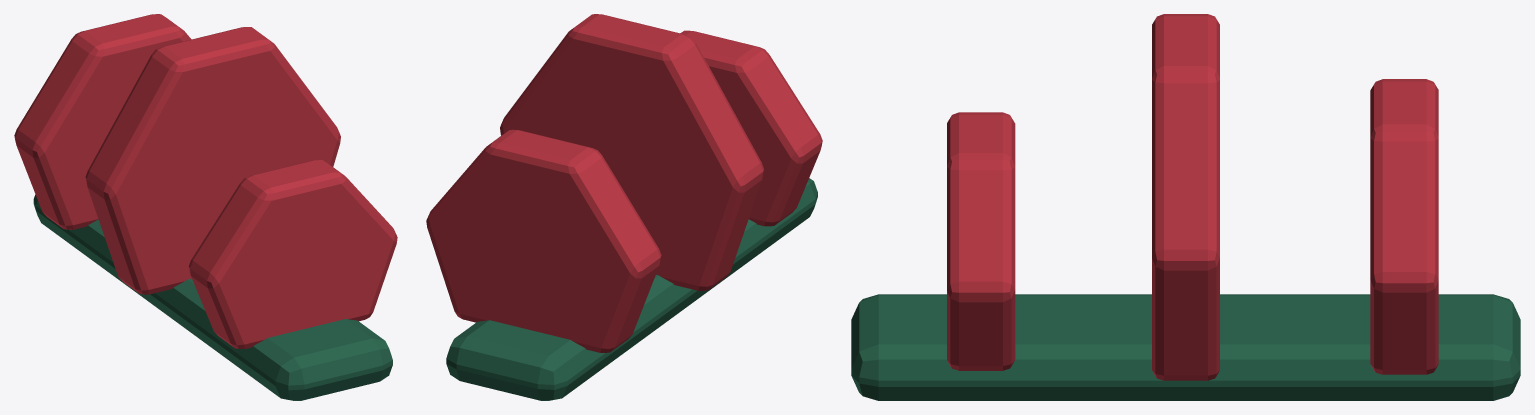
File: ACC_TH_PREHISTORIC_Primary.fbx
3 renders of one model, left to right at view 1: azimuth 30°, elevation 25°; view 2: azimuth 150°, elevation 25°; view 3: azimuth 270°, elevation 25°, orthographic. The views are drawn at different scales.
Visible parts, largest first — view 1: ACC_TH_PREHISTORIC_Primary; view 2: ACC_TH_PREHISTORIC_Primary; view 3: ACC_TH_PREHISTORIC_Primary.
Boxes of the visible parts, x1,y1,x2,y2 form: ACC_TH_PREHISTORIC_Primary: [14, 14, 397, 400]; ACC_TH_PREHISTORIC_Primary: [426, 14, 822, 400]; ACC_TH_PREHISTORIC_Primary: [851, 14, 1520, 400].
Bounding box in the file's own units: 51.26 × 54 × 98.
